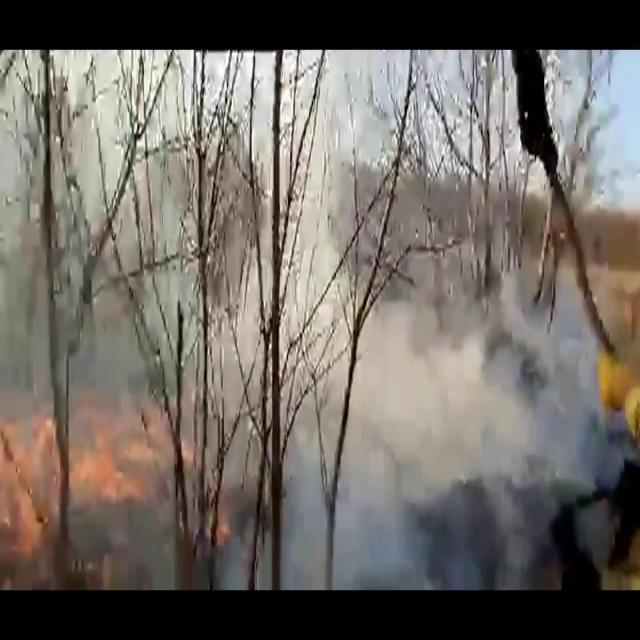Fire: (0, 386, 184, 569)
Smoke: (244, 256, 621, 584), (0, 81, 244, 472)
